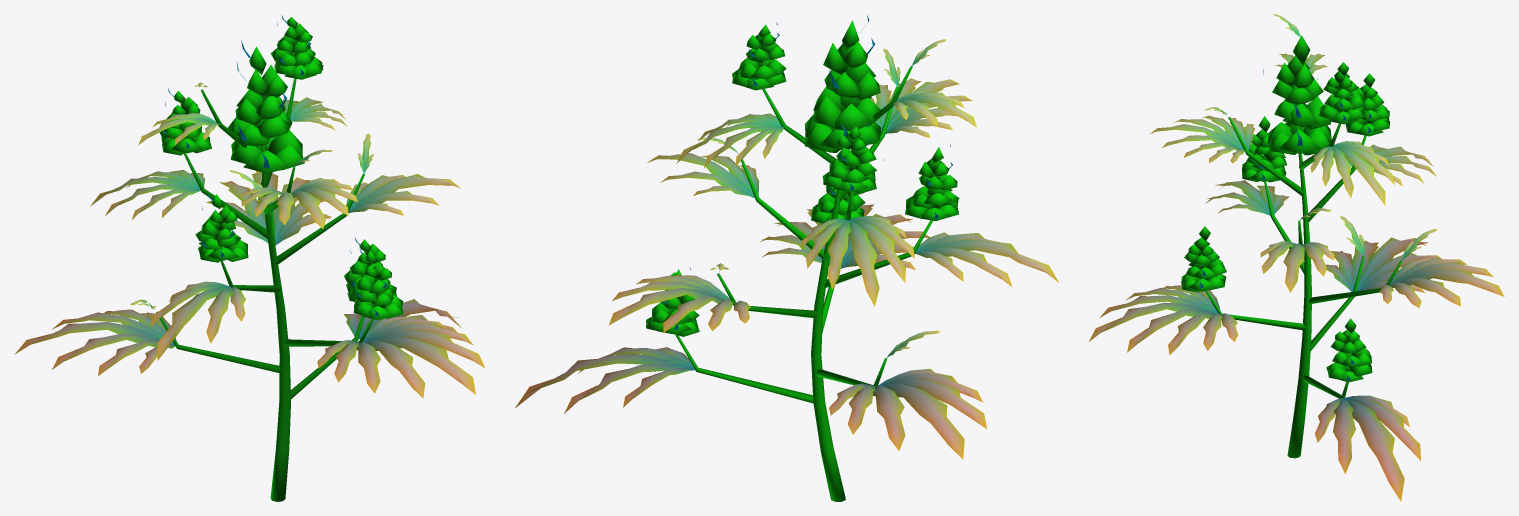
Rendered from plant_harvest.glb.
3 views of the same model, side by side, from view 1: azimuth 30°, elevation 25°; view 2: azimuth 150°, elevation 25°; view 3: azimuth 270°, elevation 25° (orthographic). The views are drawn at different scales.
Visible parts, largest first — view 1: Leaves, Buds, Stem; view 2: Leaves, Buds, Stem; view 3: Leaves, Buds, Stem.
Boxes of the visible parts, x1,y1,x2,y2 form: Leaves: (15,82,485,398); Buds: (159,15,403,320); Stem: (156,78,373,501); Leaves: (515,39,1058,459); Buds: (646,15,959,336); Stem: (675,66,932,501); Leaves: (1089,14,1504,501); Buds: (1181,35,1389,382); Stem: (1205,117,1402,458).
Size of the model in its own units: 1.17 by 1.2 by 1.07.
